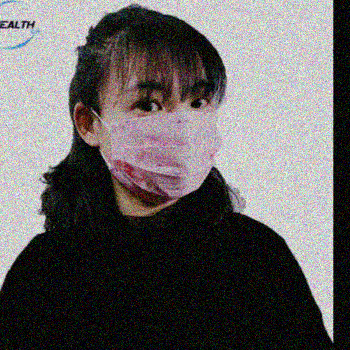with_mask: (101, 74, 222, 200)
